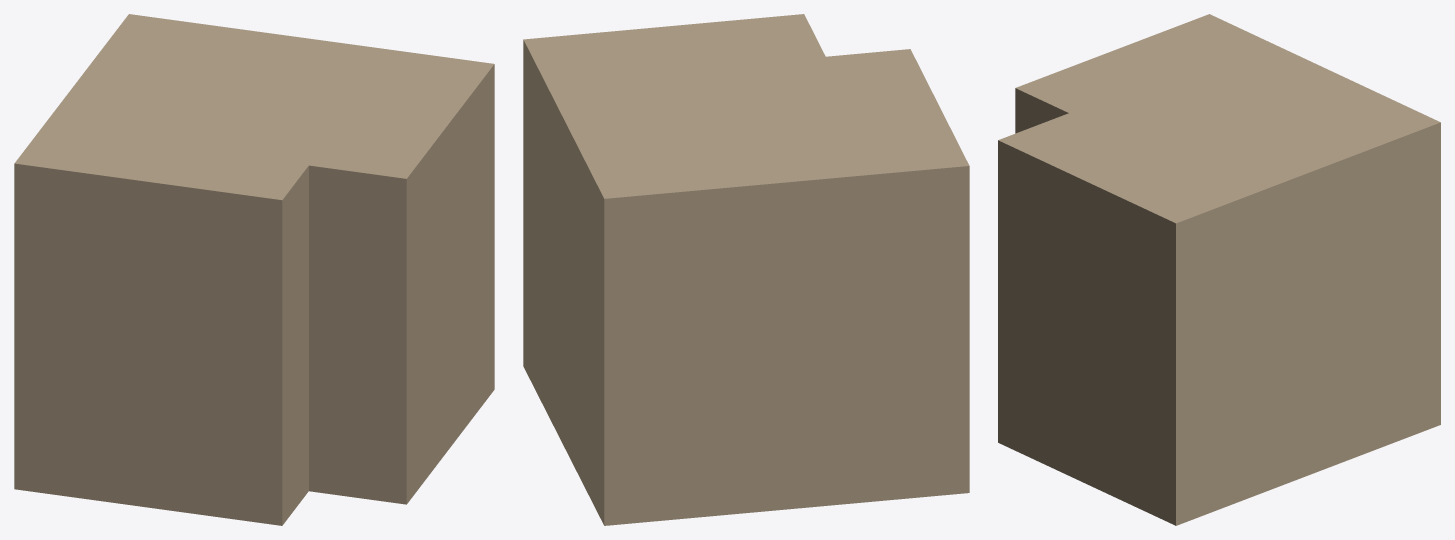
File: bld_101979812.dae
3 views of the same model, side by side, from view 1: azimuth 30°, elevation 25°; view 2: azimuth 150°, elevation 25°; view 3: azimuth 270°, elevation 25° (orthographic). The views are drawn at different scales.
Parts seen in each view (by area): view 1: bld_101979812; view 2: bld_101979812; view 3: bld_101979812.
Boxes of the visible parts, x1,y1,x2,y2 form: bld_101979812: (14, 14, 494, 525); bld_101979812: (523, 14, 969, 525); bld_101979812: (998, 14, 1440, 525).
Size of the model in its own units: 11.88 by 10.61 by 8.
